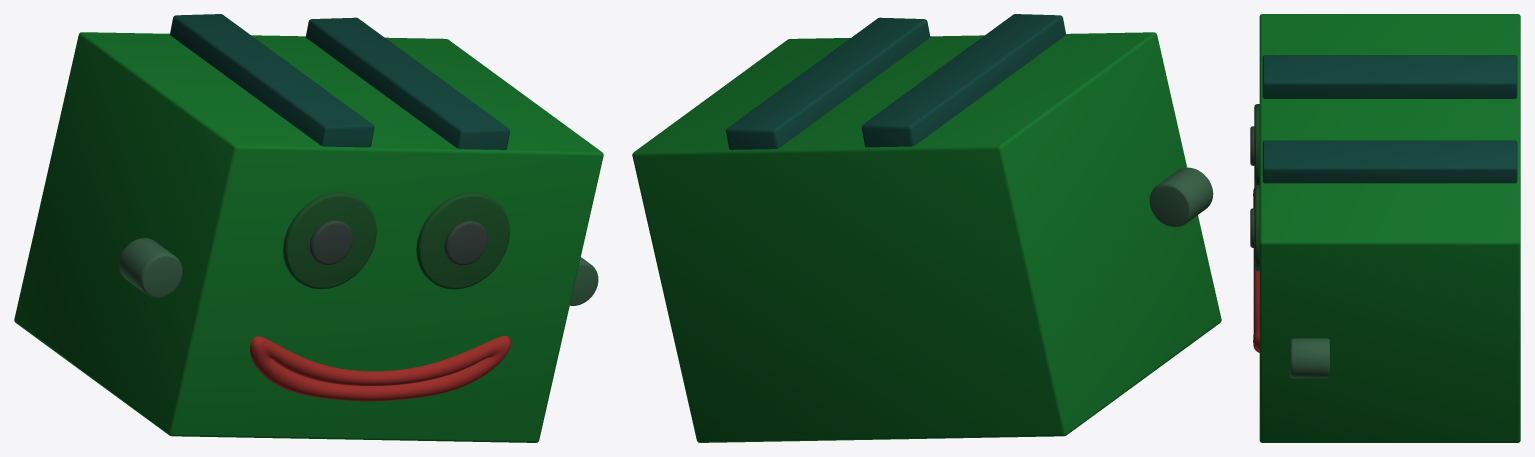
Rendered from Vinny.glb.
The picture shows the model from 3 angles, left to right: view 1: azimuth 30°, elevation 25°; view 2: azimuth 150°, elevation 25°; view 3: azimuth 270°, elevation 25°; orthographic projection. The views are drawn at different scales.
Visible parts, largest first — view 1: Head, Mohawk R, Mohawk L, Mouth, Eye R, Eye L, Ear R, Pupil L, Pupil R, Ear L; view 2: Head, Mohawk R, Mohawk L, Ear R; view 3: Head, Mohawk R, Mohawk L, Ear L, Mouth, Eye L, Eye R.
Boxes of the visible parts, x1,y1,x2,y2 form: Head: (14, 32, 603, 442); Mohawk R: (170, 14, 374, 147); Mohawk L: (306, 17, 509, 149); Mouth: (250, 336, 510, 401); Eye R: (283, 192, 376, 289); Eye L: (416, 192, 509, 289); Ear R: (119, 238, 182, 297); Pupil L: (444, 220, 487, 265); Pupil R: (310, 220, 352, 264); Ear L: (570, 257, 598, 305); Head: (632, 32, 1221, 442); Mohawk R: (861, 14, 1065, 147); Mohawk L: (726, 17, 930, 149); Ear R: (1149, 167, 1213, 227); Head: (1259, 14, 1520, 442); Mohawk R: (1262, 55, 1517, 98); Mohawk L: (1262, 140, 1517, 183); Ear L: (1290, 338, 1329, 378); Mouth: (1253, 188, 1259, 352); Eye L: (1254, 185, 1259, 271); Eye R: (1254, 104, 1259, 187).
Bounding box in the file's own units: 2.91 × 2.25 × 1.79.
Materials: 6 (6 with a texture image).
